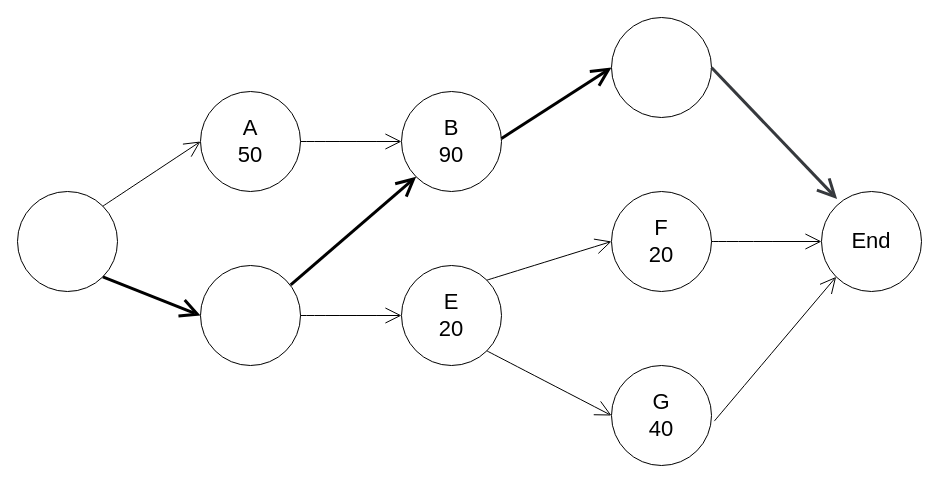
The diagram is 939 pixels wide and 483 high, and some of its shapes have lost their labels. The box of each missing label's shape, as (x1, y1, x2, y2) in pixels:
C 90: (610, 16, 712, 118)
D 100: (200, 264, 300, 366)
Start: (16, 190, 118, 292)
